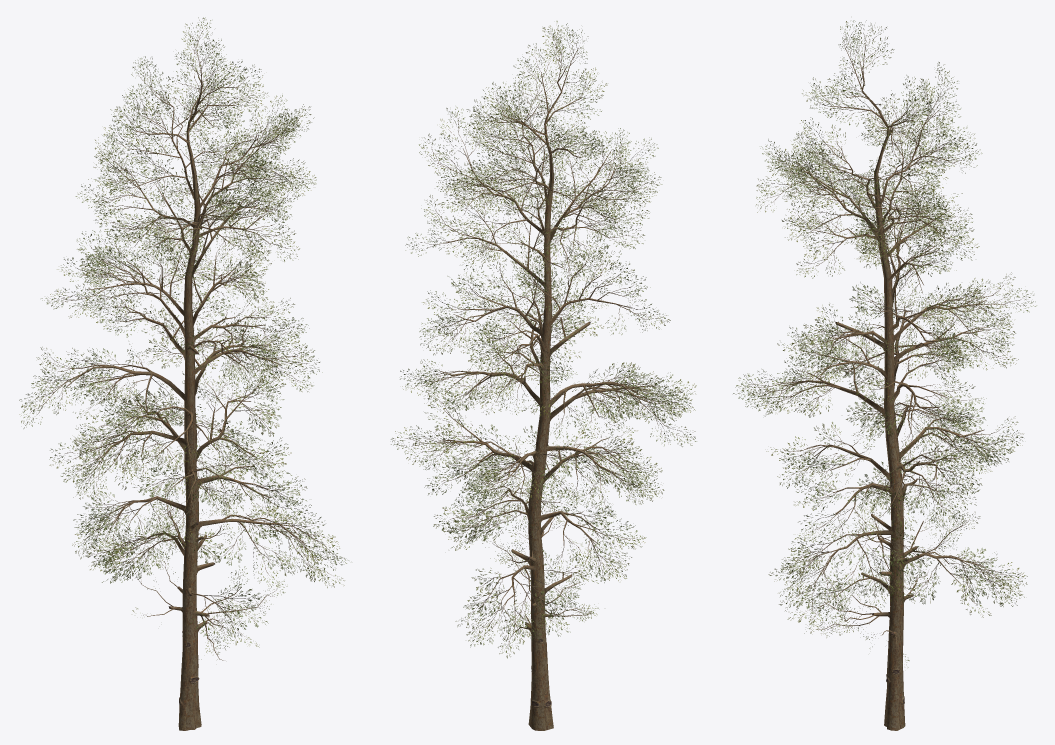
Rendered from conifer_macedonian_pine.fbx.
3 renders of one model, left to right at view 1: azimuth 30°, elevation 25°; view 2: azimuth 150°, elevation 25°; view 3: azimuth 270°, elevation 25°, orthographic. The views are drawn at different scales.
Parts seen in each view (by area): view 1: conifer_macedonian_pine_5; view 2: conifer_macedonian_pine_5; view 3: conifer_macedonian_pine_5.
Boxes of the visible parts, x1,y1,x2,y2 form: conifer_macedonian_pine_5: [19, 17, 348, 730]; conifer_macedonian_pine_5: [391, 21, 696, 730]; conifer_macedonian_pine_5: [733, 20, 1036, 730].
Size of the model in its own units: 1337 by 3143 by 1252.
6 materials, 6 textured.
